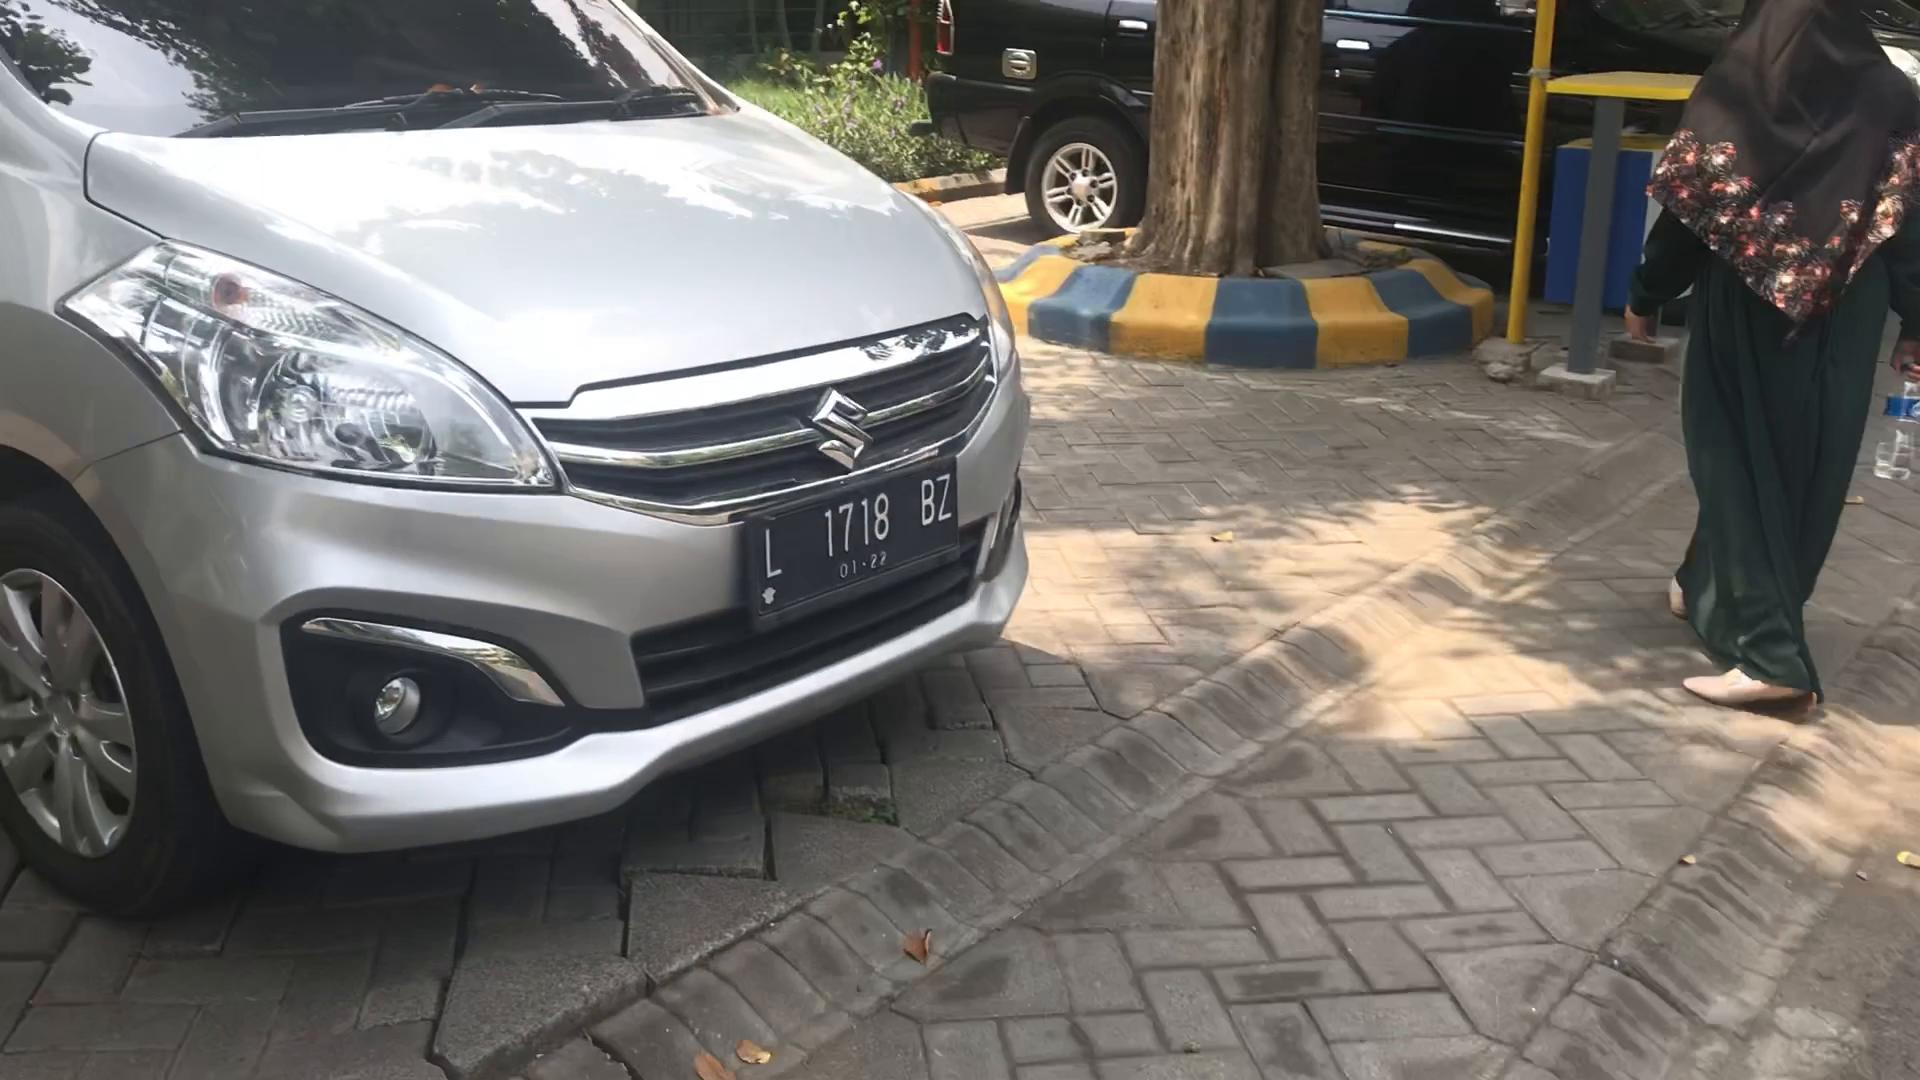plate: (747, 460, 957, 622)
